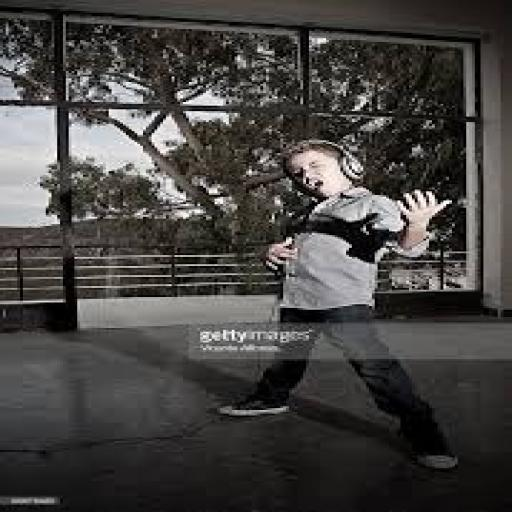listening_to_music: (212, 136, 463, 474)
